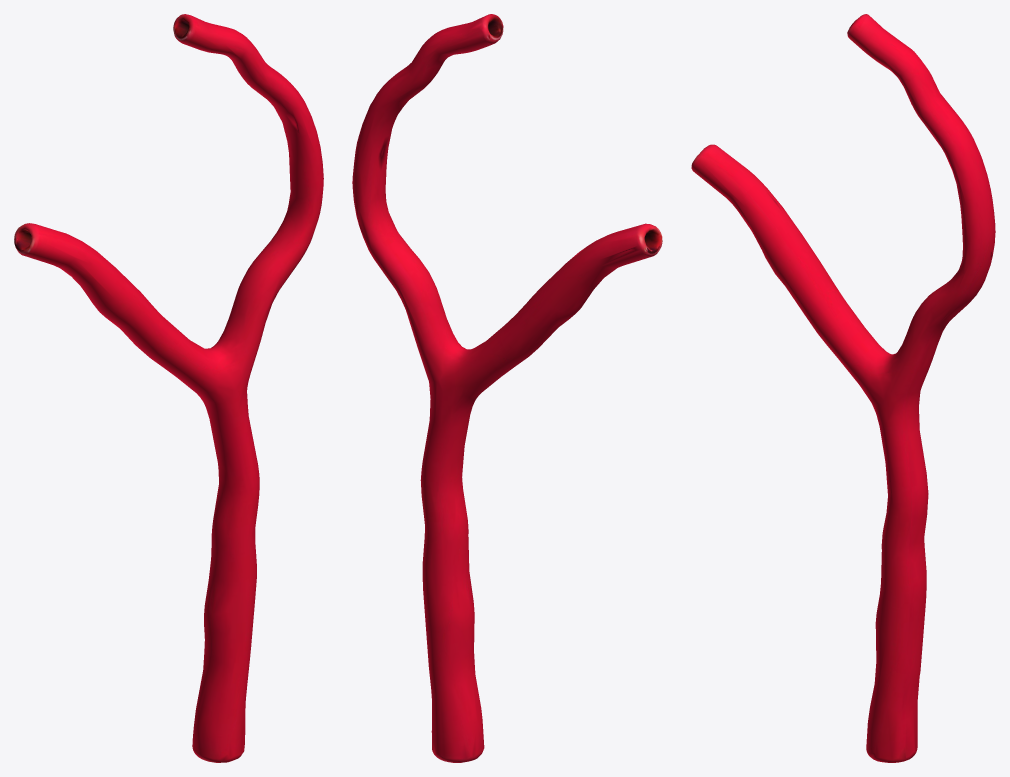
File: arteries.glb
3 views of the same model, side by side, from view 1: azimuth 30°, elevation 25°; view 2: azimuth 150°, elevation 25°; view 3: azimuth 330°, elevation 25° (orthographic).
Visible parts, largest first — view 1: arteries; view 2: arteries; view 3: arteries.
Part boxes in pixels (x1,y1,x2,y2): arteries: [14, 14, 323, 762]; arteries: [352, 14, 662, 762]; arteries: [691, 14, 995, 762].
Size of the model in its own units: 0.4222 by 1 by 0.0674.
Materials: 1 (1 with a texture image).
